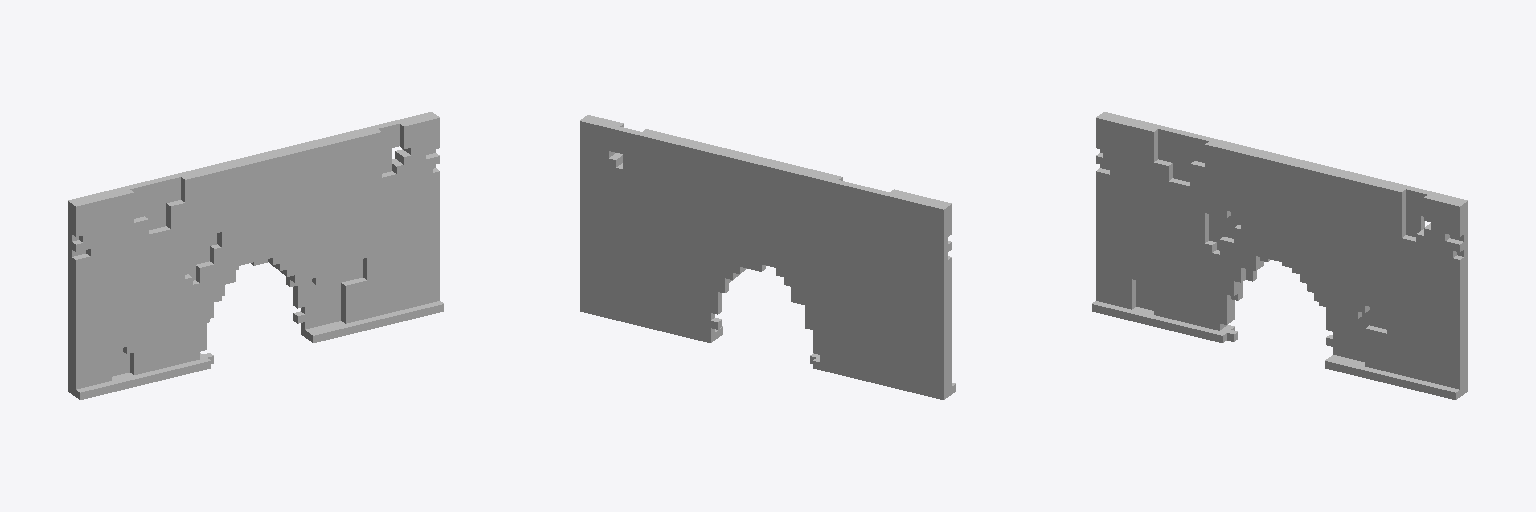
Rendered from Cellblock way hole.obj.
The picture shows the model from 3 angles: view 1: azimuth 30°, elevation 25°; view 2: azimuth 150°, elevation 25°; view 3: azimuth 330°, elevation 25°; orthographic projection.
Bounding box in the file's own units: 50 × 25 × 3.